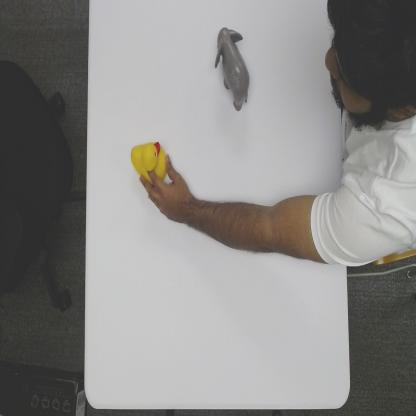Arm: (192, 191, 346, 268)
Duck: (128, 135, 168, 182)
Elephant: (213, 24, 251, 115)
Hand: (139, 155, 191, 228)
